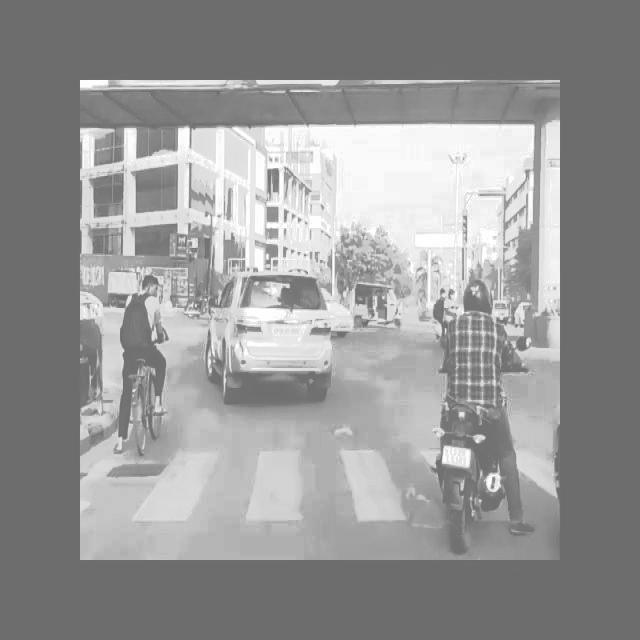Auto-Rickshaw: (354, 282, 404, 328)
Bike: (426, 276, 542, 556)
Car: (202, 261, 346, 395), (319, 287, 357, 335)
